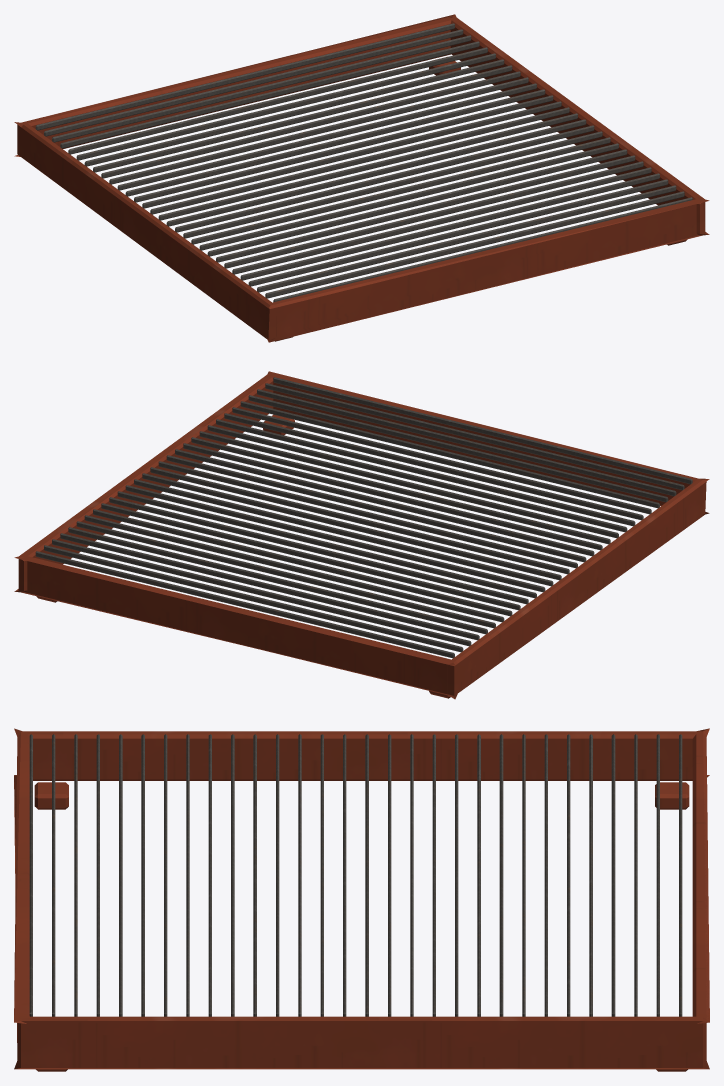
The model's file is WK_STRUCT_PLATFORM_A_01.glb.
The picture shows the model from 3 angles, top to bottom: view 1: azimuth 30°, elevation 25°; view 2: azimuth 150°, elevation 25°; view 3: azimuth 270°, elevation 25°; orthographic projection. The views are drawn at different scales.
Visible parts, largest first — view 1: WK_STRUCT_PLATFORM_A_01; view 2: WK_STRUCT_PLATFORM_A_01; view 3: WK_STRUCT_PLATFORM_A_01.
Boxes of the visible parts, x1,y1,x2,y2 form: WK_STRUCT_PLATFORM_A_01: (14, 14, 709, 342); WK_STRUCT_PLATFORM_A_01: (14, 371, 709, 699); WK_STRUCT_PLATFORM_A_01: (14, 728, 709, 1071).
Size of the model in its own units: 4.04 by 0.395 by 4.04.
2 materials, 2 textured.
